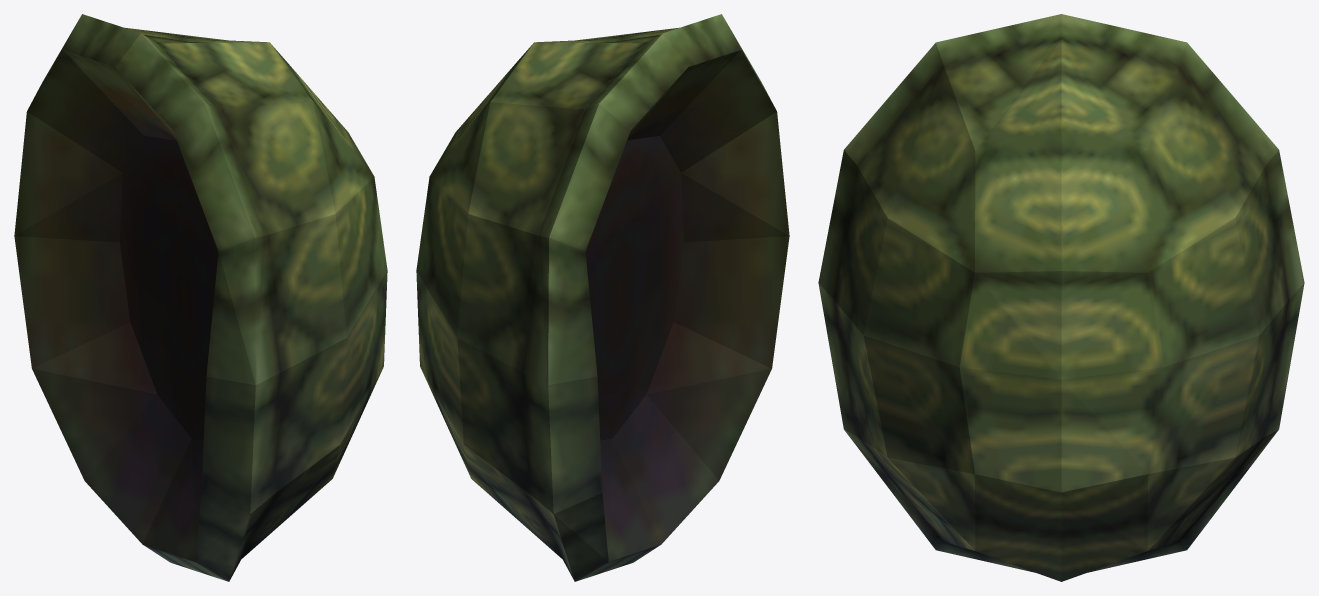
File: Panda_turtleShell2.obj
The picture shows the model from 3 angles, left to right: view 1: azimuth 30°, elevation 25°; view 2: azimuth 150°, elevation 25°; view 3: azimuth 270°, elevation 25°; orthographic projection. The views are drawn at different scales.
Visible parts, largest first — view 1: Panda_turtleShell2_tri; view 2: Panda_turtleShell2_tri; view 3: Panda_turtleShell2_tri.
Boxes of the visible parts, bbox=[...] form: Panda_turtleShell2_tri: bbox=[14, 14, 387, 581]; Panda_turtleShell2_tri: bbox=[416, 14, 789, 581]; Panda_turtleShell2_tri: bbox=[818, 14, 1304, 581].
Size of the model in its own units: 0.2067 by 0.4198 by 0.3364.
1 material, 1 textured.
